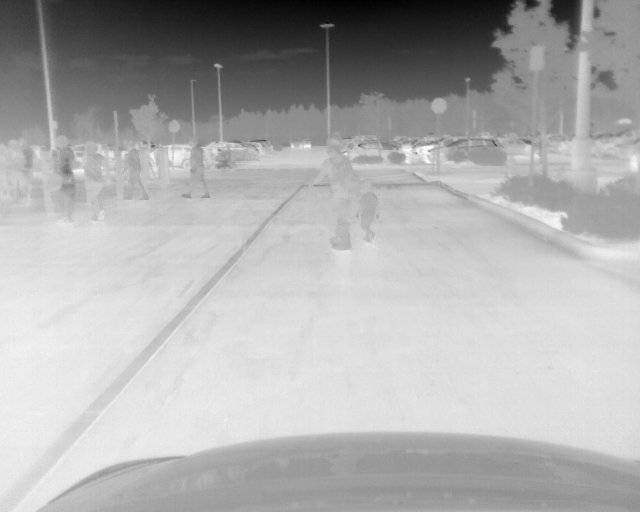car: (427, 138, 502, 163), (347, 141, 415, 164), (145, 143, 201, 169), (505, 137, 534, 156), (216, 143, 247, 153), (246, 144, 259, 158), (290, 139, 310, 148), (256, 142, 264, 156)
people: (303, 141, 354, 251), (49, 139, 76, 225), (82, 144, 107, 223), (181, 140, 211, 200), (354, 183, 379, 246), (122, 144, 149, 202), (12, 141, 34, 205)
